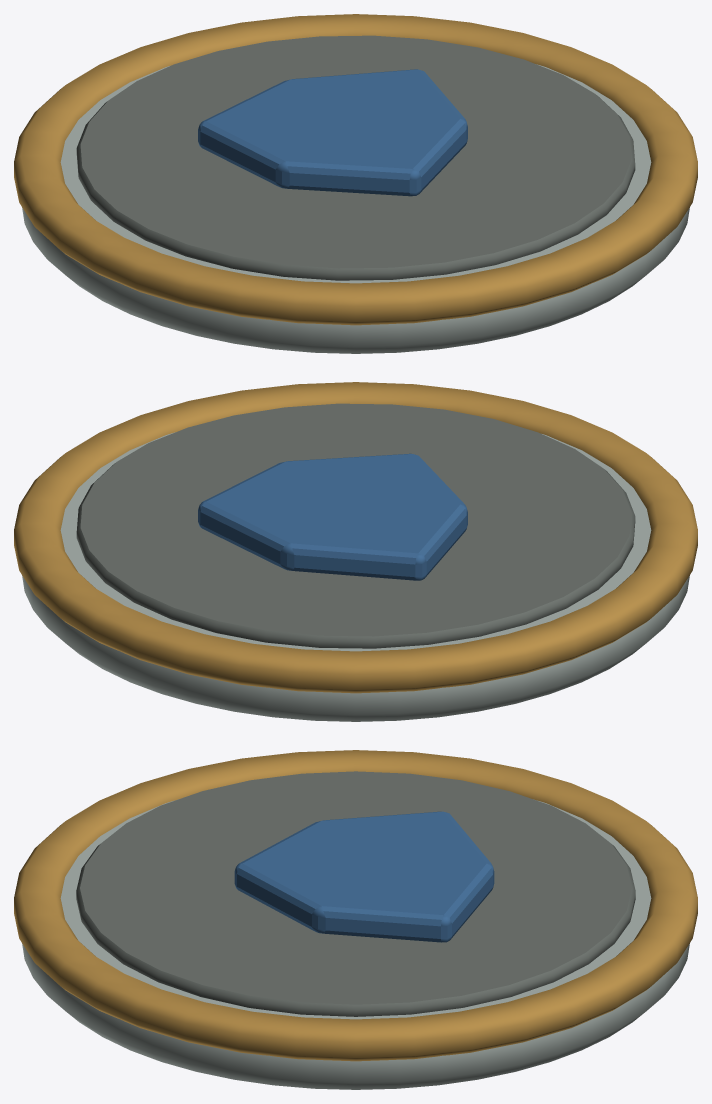
Rendered from ServiceToken_Security.fbx.
3 renders of one model, top to bottom at view 1: azimuth 30°, elevation 25°; view 2: azimuth 150°, elevation 25°; view 3: azimuth 270°, elevation 25°, orthographic.
Visible parts, largest first — view 1: Enamel field.001, Raised rim.001, Shield icon, Stamped metal blank.001; view 2: Enamel field.001, Raised rim.001, Shield icon, Stamped metal blank.001; view 3: Enamel field.001, Raised rim.001, Shield icon, Stamped metal blank.001.
Part boxes in pixels (bbox=[...]): Enamel field.001: bbox=[76, 35, 635, 280]; Raised rim.001: bbox=[14, 14, 697, 325]; Shield icon: bbox=[198, 69, 467, 196]; Stamped metal blank.001: bbox=[22, 64, 689, 353]; Enamel field.001: bbox=[76, 403, 635, 648]; Raised rim.001: bbox=[14, 382, 697, 693]; Shield icon: bbox=[198, 453, 467, 580]; Stamped metal blank.001: bbox=[22, 432, 689, 721]; Enamel field.001: bbox=[76, 771, 635, 1016]; Raised rim.001: bbox=[14, 750, 697, 1061]; Shield icon: bbox=[234, 811, 494, 942]; Stamped metal blank.001: bbox=[22, 800, 689, 1089].
Bounding box in the file's own units: 0.088 × 0.013 × 0.088.
